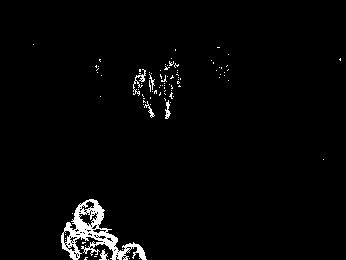person: (58, 197, 150, 260), (157, 56, 182, 120), (133, 64, 157, 119)
